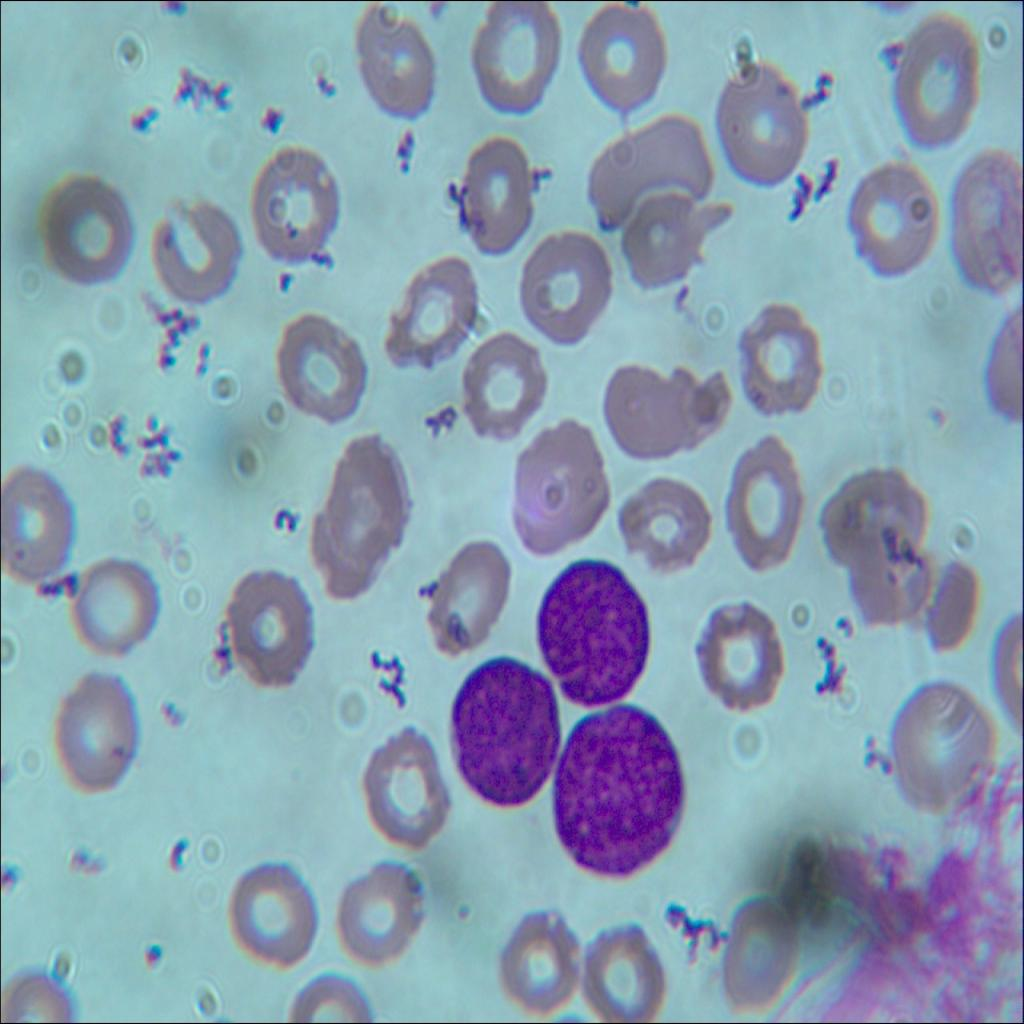Eritrosit: (582, 109, 714, 228), (702, 62, 810, 197), (892, 671, 998, 808), (506, 421, 608, 561), (418, 531, 518, 668), (364, 721, 463, 859), (880, 20, 986, 144), (815, 456, 929, 570), (269, 308, 373, 429), (696, 588, 786, 724), (512, 230, 614, 348), (29, 165, 131, 282), (329, 852, 428, 972), (849, 154, 939, 284), (238, 150, 340, 264), (380, 263, 486, 367), (461, 0, 563, 108), (726, 432, 803, 575), (944, 154, 1023, 291), (224, 851, 315, 968), (443, 331, 546, 434), (601, 355, 698, 464), (346, 6, 440, 118), (56, 671, 138, 797), (148, 188, 238, 302), (578, 2, 668, 115), (0, 465, 79, 591), (226, 571, 311, 688), (572, 918, 666, 1023), (458, 136, 539, 257), (736, 308, 826, 414), (74, 552, 160, 662), (491, 904, 575, 1016), (620, 474, 706, 578), (849, 511, 931, 619), (715, 898, 796, 1004), (619, 188, 699, 295), (918, 565, 980, 642)
Limfoblast: (546, 704, 686, 878), (446, 642, 558, 814), (535, 554, 654, 700)
Platelet: (136, 934, 164, 977), (0, 847, 19, 895)
